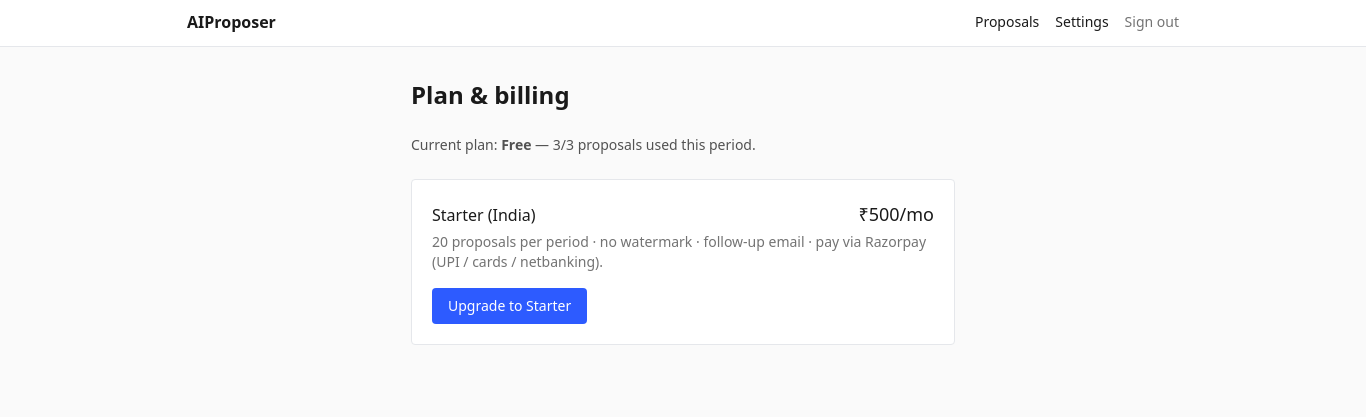
Test: mock key / no Checkout.js -> order-summary fallback, no crash (AC 6)
The width and height of the screenshot is (1366, 417).
Expected: the text "Current plan: Free — 3/3 proposals used this period." is shown, [411,135,756,154]
Click the button "Upgrade to Starter" at x=510, y=306, box [432,288,587,324]
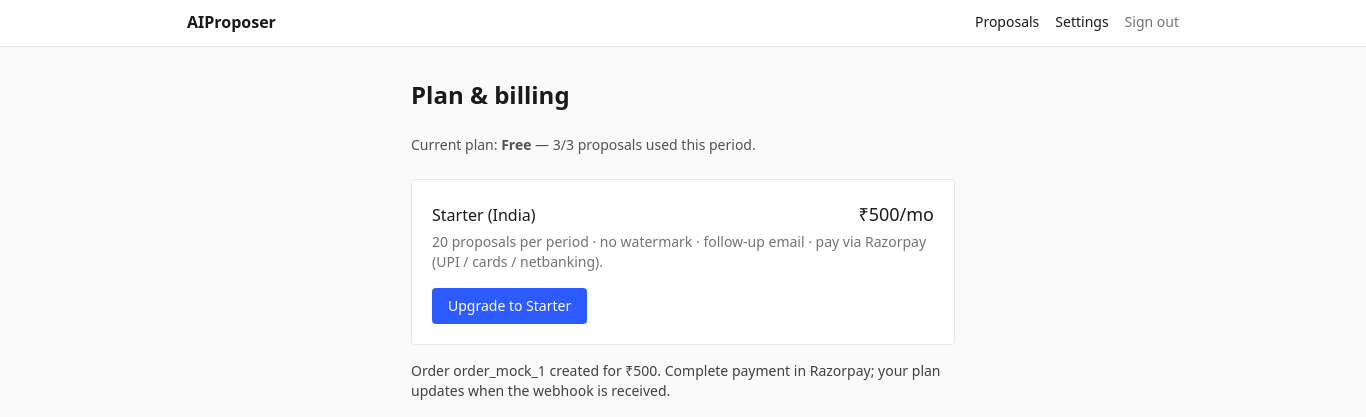
Expected: the text "Order order_mock_1 created" is shown, [411,361,940,400]
